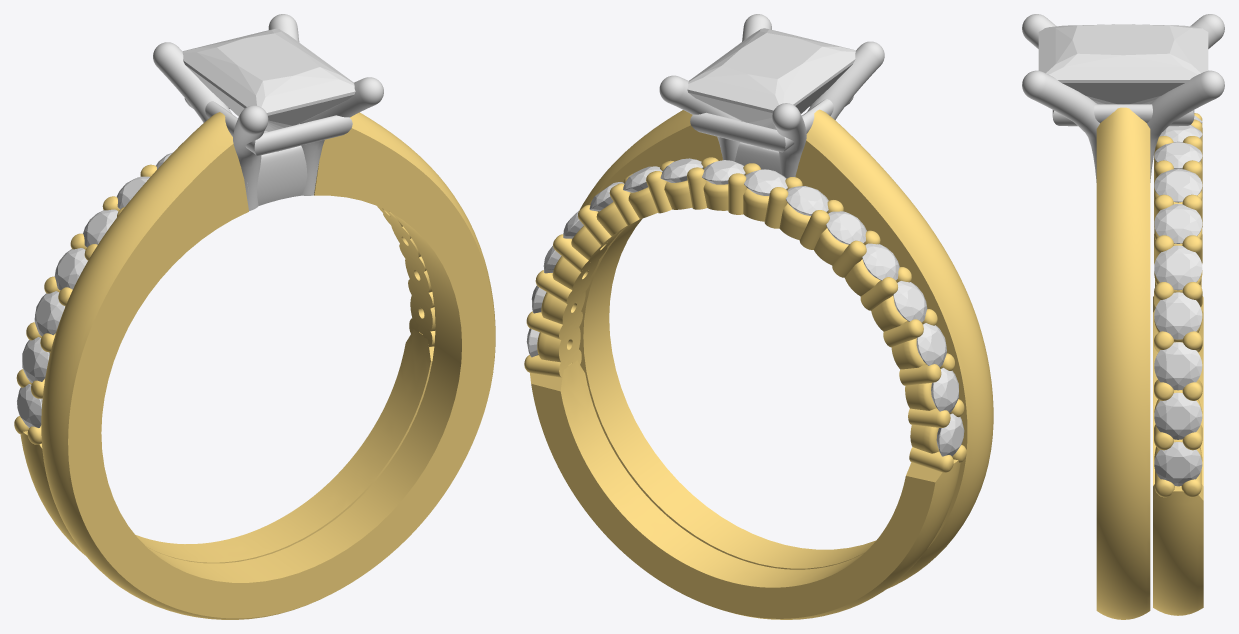
File: Meredith_halfway_down_WB_blender.glb
3 views of the same model, side by side, from view 1: azimuth 30°, elevation 25°; view 2: azimuth 150°, elevation 25°; view 3: azimuth 270°, elevation 25° (orthographic). The views are drawn at different scales.
Visible parts, largest first — view 1: M halfway down YG eng, wb for 3d model, M halfway down PT eng, wb for 3d model, M halfway down dia eng, wb for 3d model.016, M halfway down dia eng, wb for 3d model.013, M halfway down dia eng, wb for 3d model.012, M halfway down dia eng, wb for 3d model.014, M halfway down dia eng, wb for 3d model.015, M halfway down dia eng, wb for 3d model.011; view 2: M halfway down YG eng, wb for 3d model, M halfway down dia eng, wb for 3d model.016, M halfway down PT eng, wb for 3d model, M halfway down dia eng, wb for 3d model.012, M halfway down dia eng, wb for 3d model.011, M halfway down dia eng, wb for 3d model.010, M halfway down dia eng, wb for 3d model.013, M halfway down dia eng, wb for 3d model.009, M halfway down dia eng, wb for 3d model.014, M halfway down dia eng, wb for 3d model.015, M halfway down dia eng, wb for 3d model.008, M halfway down dia eng, wb for 3d model.007 (+1 smaller); view 3: M halfway down YG eng, wb for 3d model, M halfway down dia eng, wb for 3d model.016, M halfway down PT eng, wb for 3d model, M halfway down dia eng, wb for 3d model.002, M halfway down dia eng, wb for 3d model.003, M halfway down dia eng, wb for 3d model.001, M halfway down dia eng, wb for 3d model.004, M halfway down dia eng, wb for 3d model, M halfway down dia eng, wb for 3d model.005, M halfway down dia eng, wb for 3d model.006, M halfway down dia eng, wb for 3d model.007, M halfway down dia eng, wb for 3d model.008.
Part boxes in pixels (bbox=[...]): M halfway down YG eng, wb for 3d model: bbox=[14, 112, 495, 619]; M halfway down PT eng, wb for 3d model: bbox=[153, 14, 383, 210]; M halfway down dia eng, wb for 3d model.016: bbox=[182, 28, 355, 131]; M halfway down dia eng, wb for 3d model.013: bbox=[34, 291, 65, 336]; M halfway down dia eng, wb for 3d model.012: bbox=[54, 248, 87, 290]; M halfway down dia eng, wb for 3d model.014: bbox=[22, 337, 49, 382]; M halfway down dia eng, wb for 3d model.015: bbox=[17, 384, 42, 427]; M halfway down dia eng, wb for 3d model.011: bbox=[83, 209, 118, 247]; M halfway down YG eng, wb for 3d model: bbox=[524, 109, 993, 619]; M halfway down dia eng, wb for 3d model.016: bbox=[687, 28, 855, 128]; M halfway down PT eng, wb for 3d model: bbox=[659, 14, 884, 178]; M halfway down dia eng, wb for 3d model.012: bbox=[893, 281, 927, 322]; M halfway down dia eng, wb for 3d model.011: bbox=[862, 243, 899, 280]; M halfway down dia eng, wb for 3d model.010: bbox=[826, 211, 866, 244]; M halfway down dia eng, wb for 3d model.013: bbox=[916, 323, 946, 367]; M halfway down dia eng, wb for 3d model.009: bbox=[786, 186, 828, 215]; M halfway down dia eng, wb for 3d model.014: bbox=[931, 367, 958, 412]; M halfway down dia eng, wb for 3d model.015: bbox=[936, 413, 964, 456]; M halfway down dia eng, wb for 3d model.008: bbox=[744, 169, 787, 195]; M halfway down dia eng, wb for 3d model.007: bbox=[702, 160, 745, 184]; M halfway down YG eng, wb for 3d model: bbox=[1096, 107, 1203, 619]; M halfway down dia eng, wb for 3d model.016: bbox=[1038, 24, 1208, 104]; M halfway down PT eng, wb for 3d model: bbox=[1022, 14, 1224, 182]; M halfway down dia eng, wb for 3d model.002: bbox=[1154, 342, 1202, 390]; M halfway down dia eng, wb for 3d model.003: bbox=[1154, 292, 1202, 339]; M halfway down dia eng, wb for 3d model.001: bbox=[1154, 392, 1202, 439]; M halfway down dia eng, wb for 3d model.004: bbox=[1154, 245, 1202, 290]; M halfway down dia eng, wb for 3d model: bbox=[1154, 442, 1202, 486]; M halfway down dia eng, wb for 3d model.005: bbox=[1154, 203, 1202, 243]; M halfway down dia eng, wb for 3d model.006: bbox=[1154, 168, 1202, 202]; M halfway down dia eng, wb for 3d model.007: bbox=[1154, 141, 1202, 168]; M halfway down dia eng, wb for 3d model.008: bbox=[1159, 125, 1202, 142].
Bounding box in the file's own units: 19.27 × 23.04 × 7.59.
